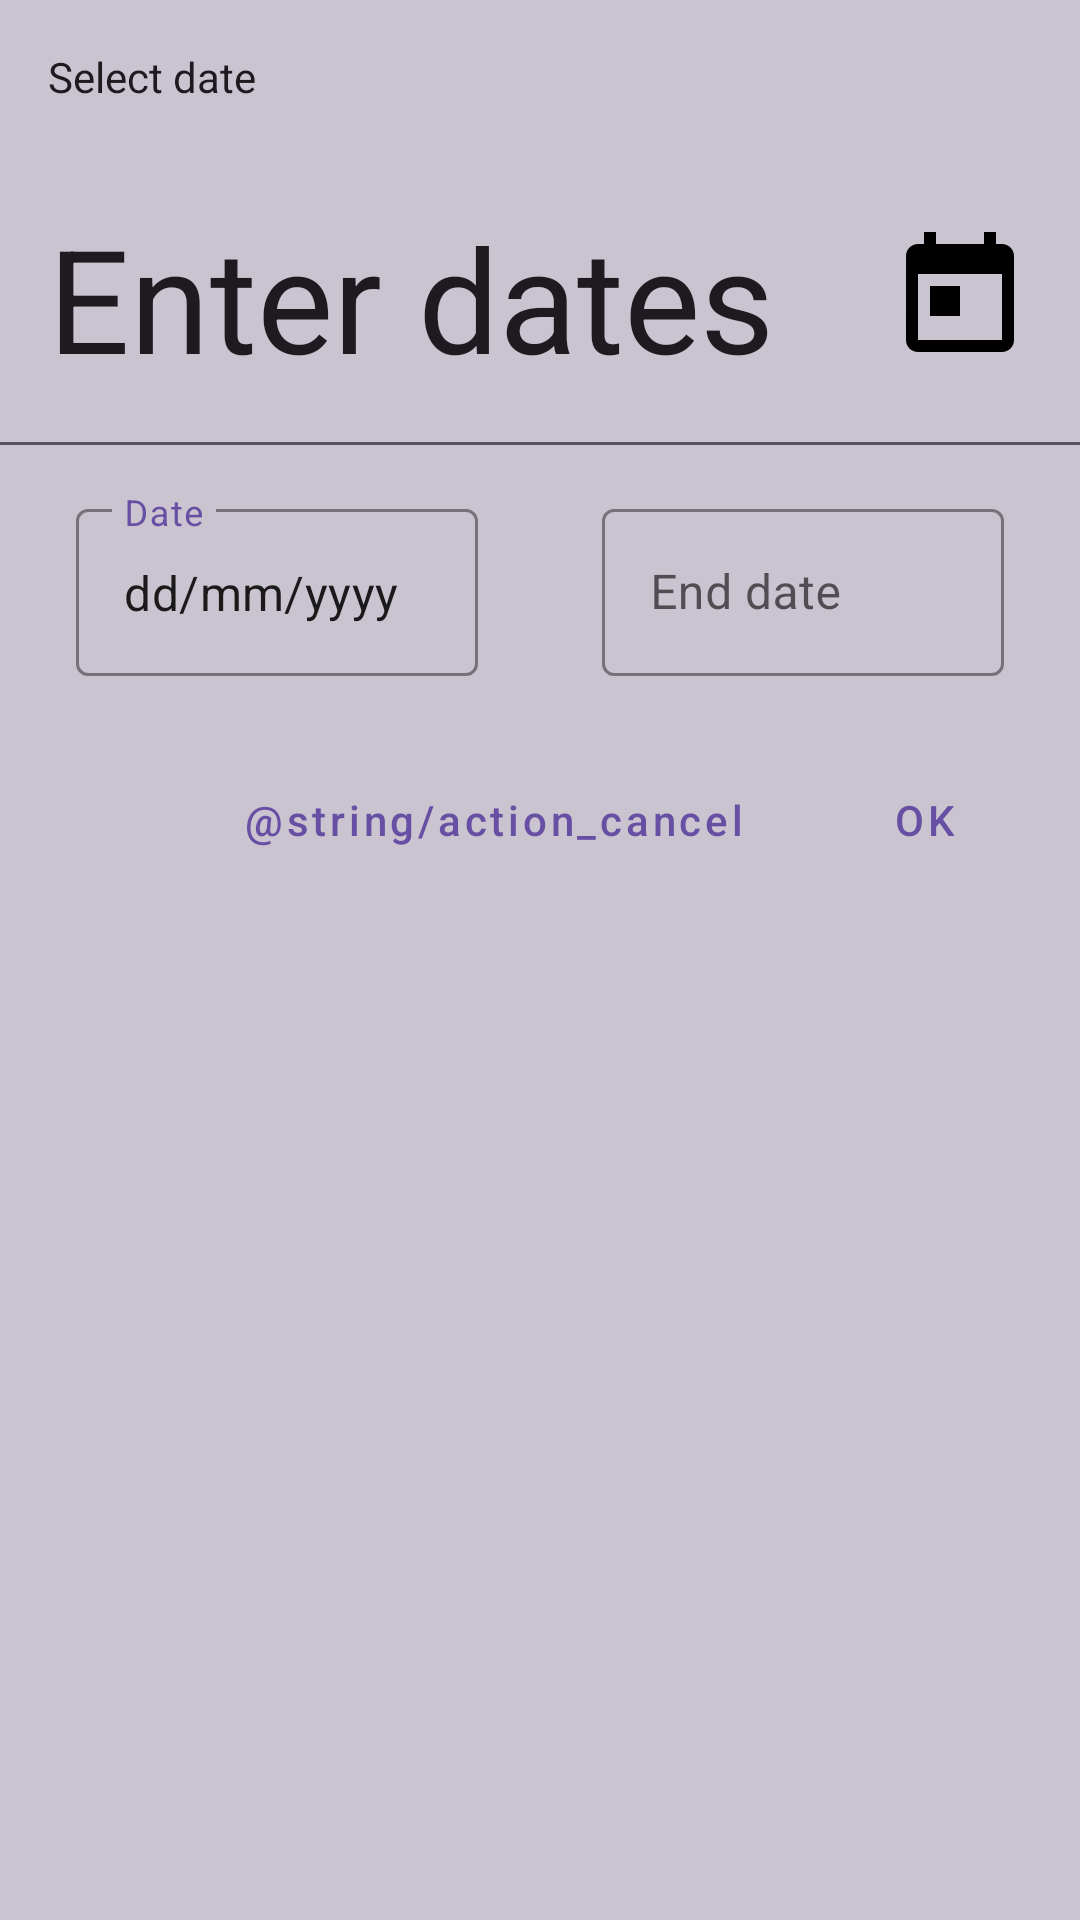

Screen size 1080px x 1920px. Icon name, then its center in pixels as [x,y]:
calendar: [960,292]
